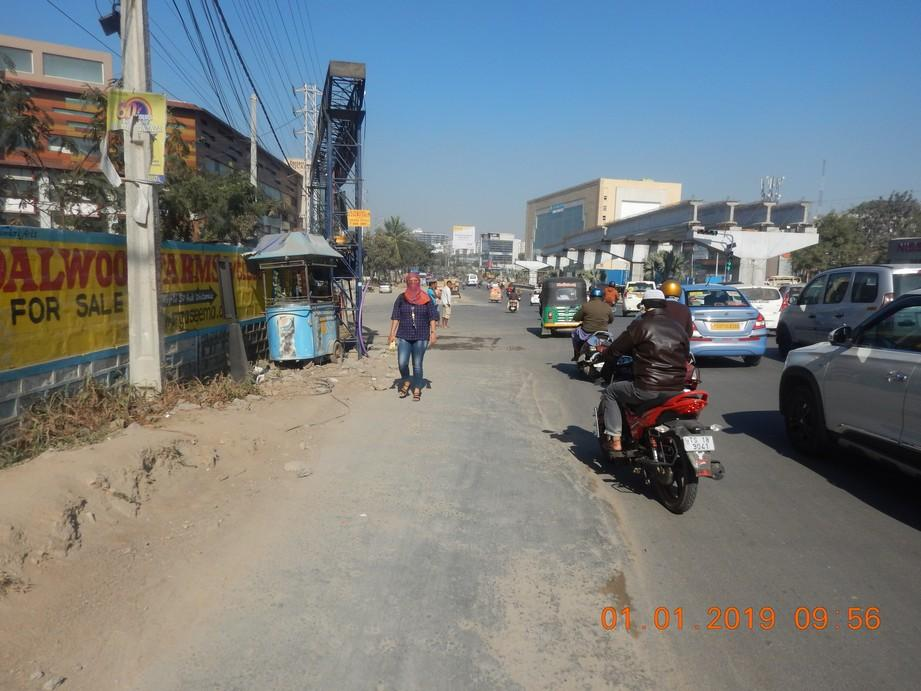plate: (681, 434, 719, 452)
